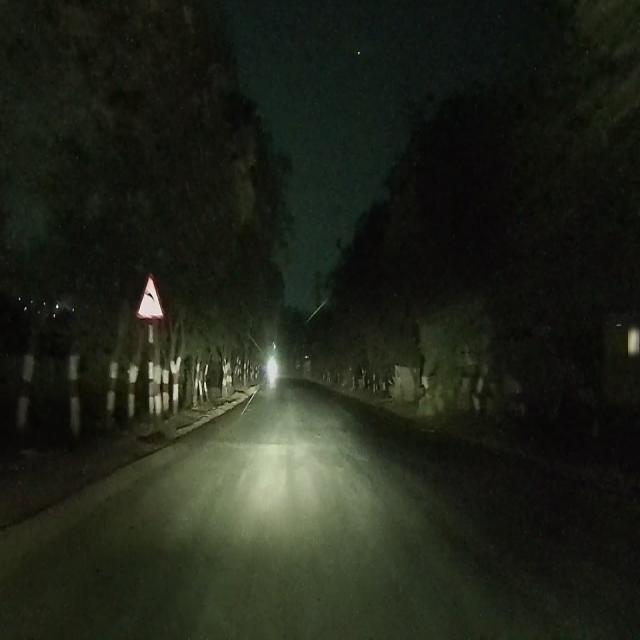left-hand-curve: (140, 271, 162, 318)
